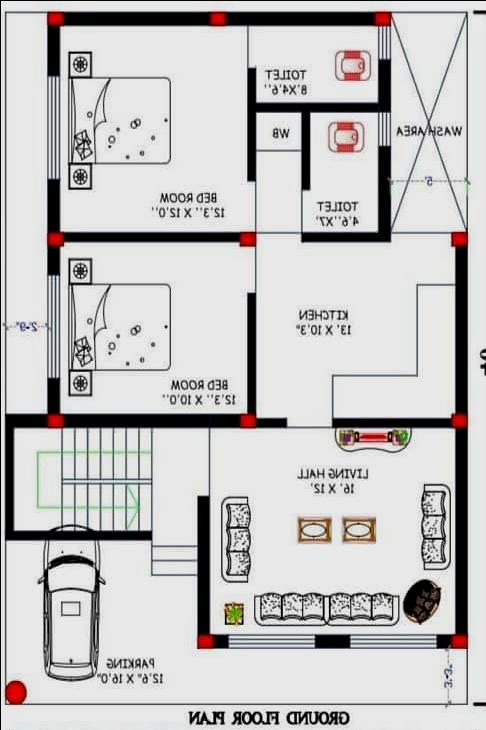Blueprint: (0, 5, 476, 649)
wall: (452, 425, 468, 636), (59, 411, 243, 429), (452, 244, 470, 414), (222, 8, 377, 26), (61, 8, 212, 26), (194, 492, 212, 636), (0, 526, 154, 542), (61, 230, 242, 243), (242, 64, 258, 183), (328, 414, 454, 429), (2, 410, 16, 542), (244, 289, 258, 416), (375, 142, 392, 243), (252, 100, 392, 112), (298, 229, 392, 244), (298, 107, 312, 192), (44, 176, 62, 234), (44, 22, 62, 77), (1, 411, 50, 430), (376, 56, 392, 113), (44, 373, 62, 417), (312, 631, 352, 650), (44, 242, 62, 277), (252, 414, 289, 430), (210, 630, 231, 650), (434, 632, 453, 650)
